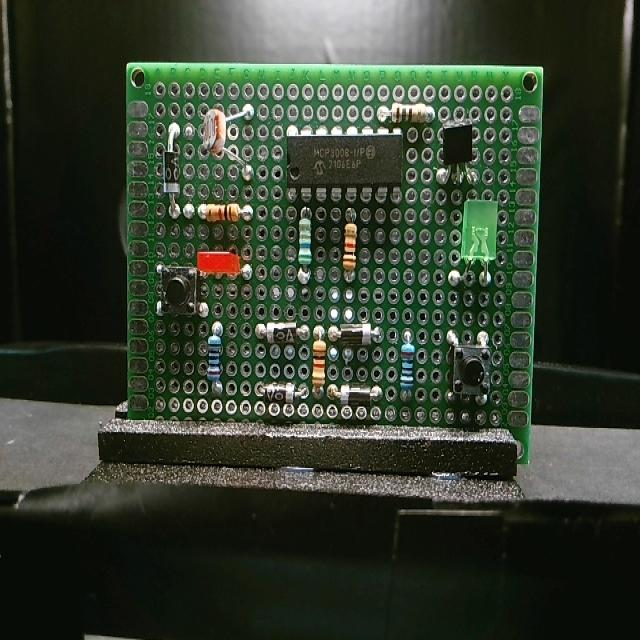IC: (282, 129, 404, 194)
cds: (198, 109, 238, 159)
diode: (159, 139, 182, 198), (264, 316, 300, 348), (332, 319, 374, 343), (338, 381, 374, 409), (264, 383, 297, 403)
led: (462, 196, 502, 266), (195, 244, 242, 279)
resistor: (195, 199, 242, 225), (384, 100, 432, 125), (205, 335, 226, 385), (310, 335, 328, 389), (295, 213, 314, 264), (398, 339, 416, 389), (344, 223, 358, 275)
switch: (155, 258, 201, 319), (447, 343, 494, 402)
transistor: (442, 122, 476, 173)
